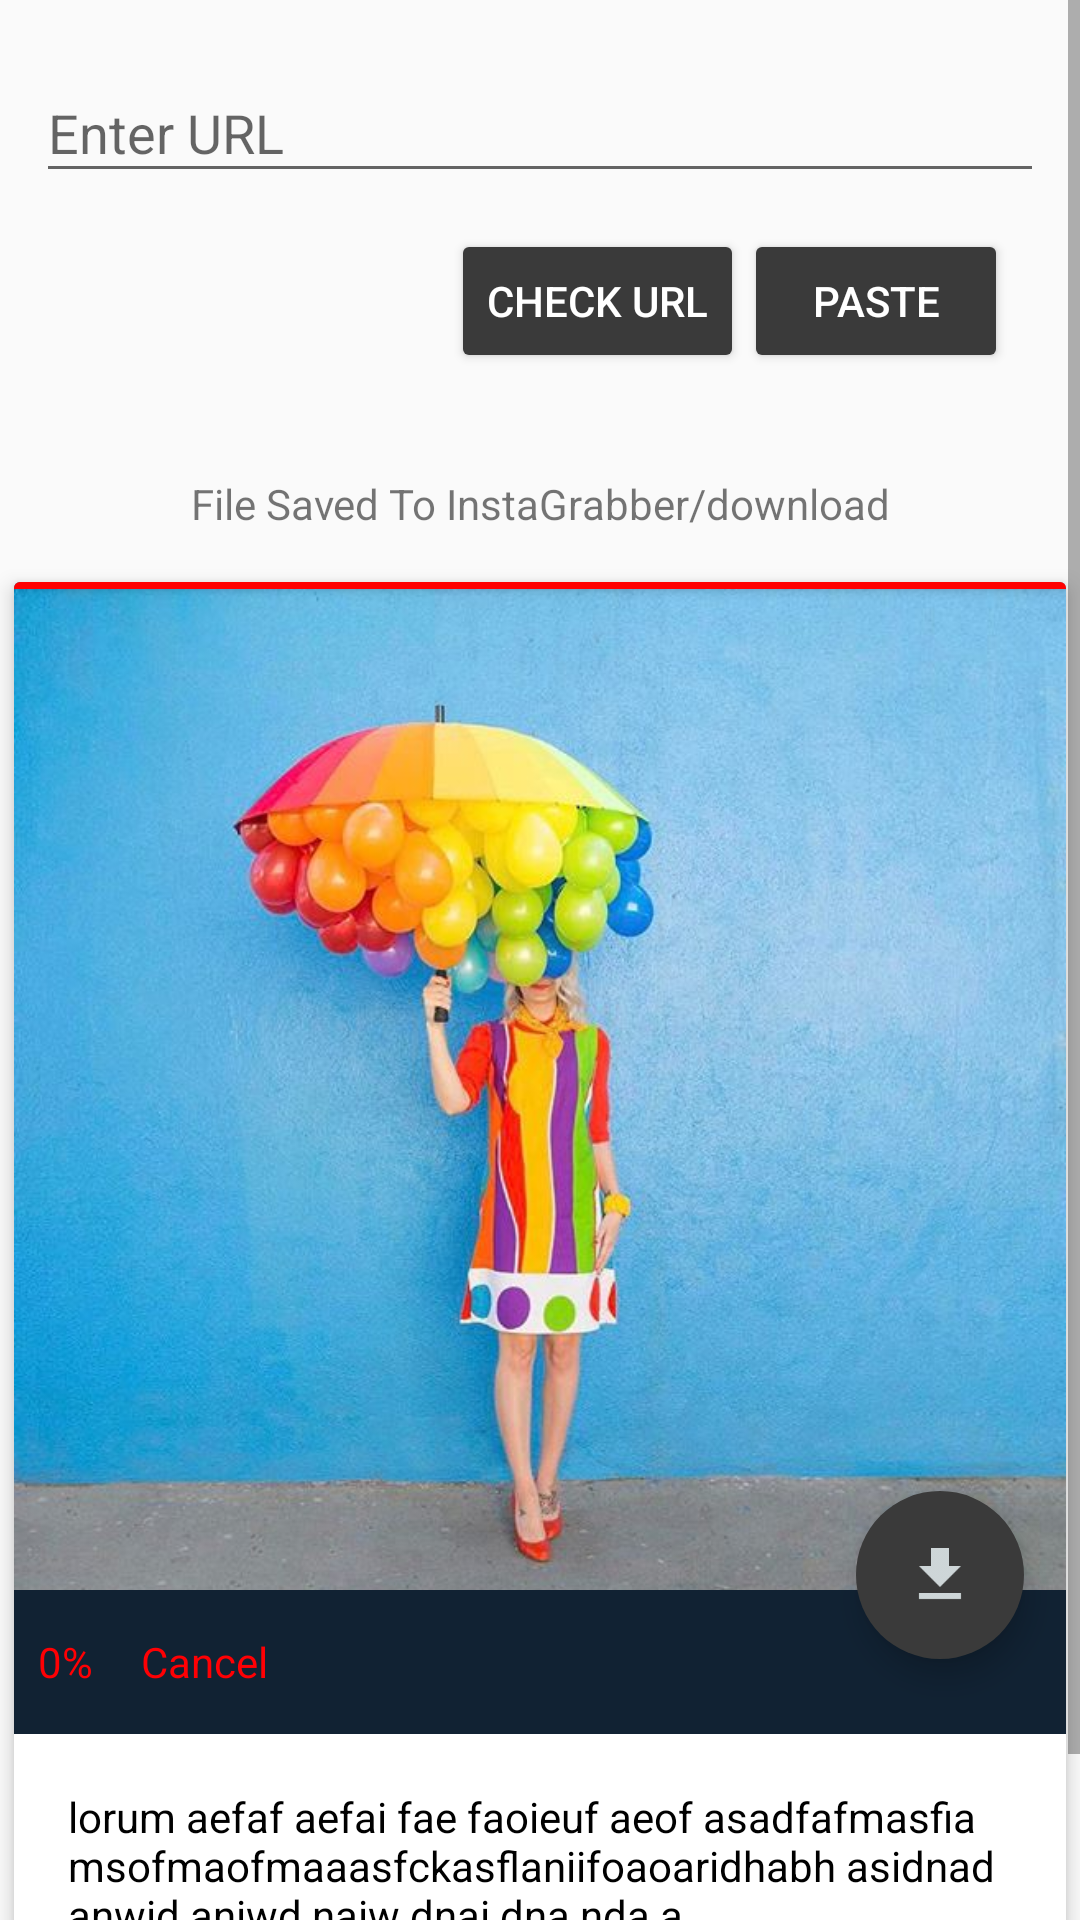

Icon click points for this 1080 × 1920 phone screenshot, format point (x, y):
download: point (940, 1575)
